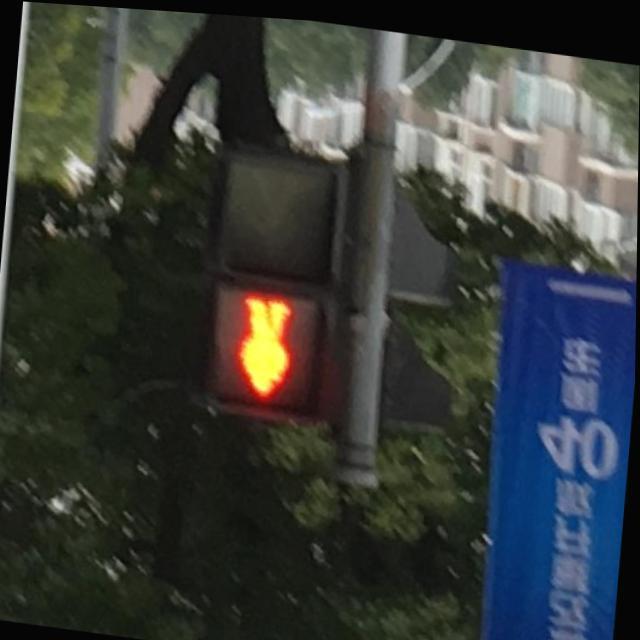red_light: (209, 279, 321, 411)
